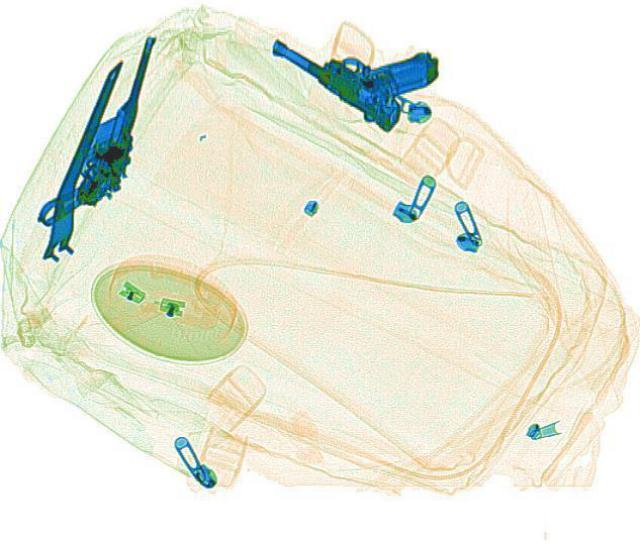Gun: (34, 24, 158, 234), (266, 0, 442, 132)
